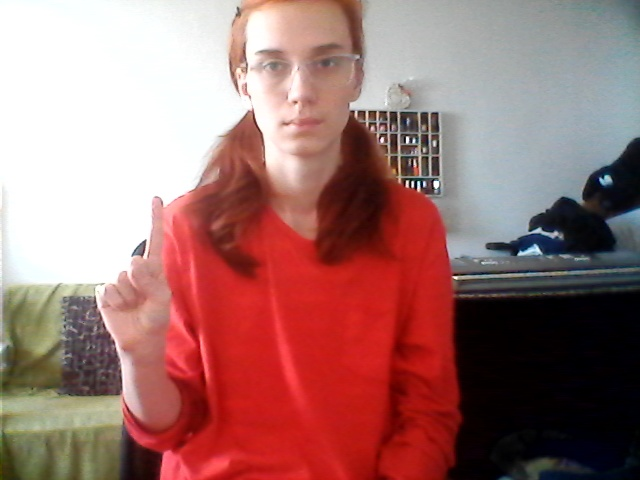i: (85, 189, 189, 353)
